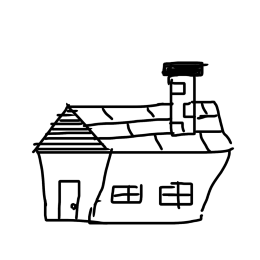chimney: (154, 55, 212, 137)
closed_window: (156, 175, 197, 211), (104, 180, 149, 207)
door: (53, 177, 84, 223)
roof: (28, 97, 238, 160)
wall: (86, 146, 244, 232)
